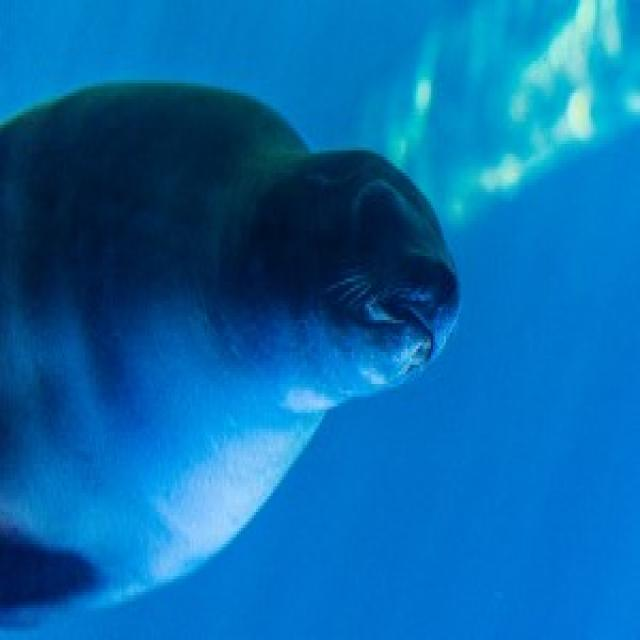Seal: (0, 54, 506, 640)
